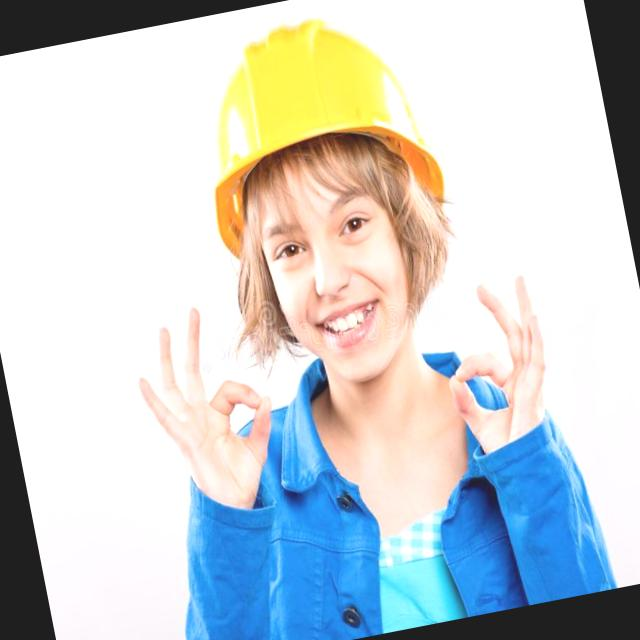helmet: (172, 0, 451, 250)
no-vest: (167, 341, 569, 640)
